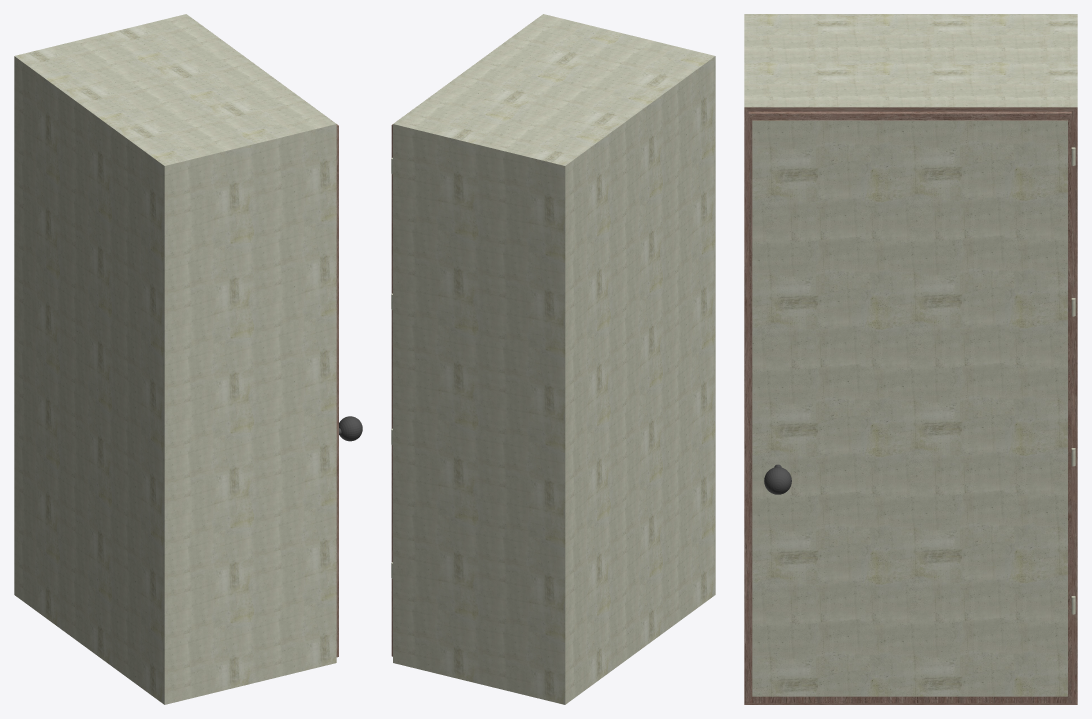
File: wardrobe.glb
3 views of the same model, side by side, from view 1: azimuth 30°, elevation 25°; view 2: azimuth 150°, elevation 25°; view 3: azimuth 270°, elevation 25° (orthographic). The views are drawn at different scales.
Visible parts, largest first — view 1: Cube.002, Cylinder.003; view 2: Cube.002, Cylinder.003; view 3: Cylinder.003, Cube.002.
Part boxes in pixels (x1,y1,x2,y2): Cube.002: [14, 14, 336, 704]; Cylinder.003: [336, 124, 362, 657]; Cube.002: [393, 14, 715, 704]; Cylinder.003: [391, 124, 392, 656]; Cylinder.003: [748, 111, 1075, 703]; Cube.002: [744, 14, 1077, 704].
Size of the model in its own units: 2.46 by 5.98 by 3.03.
3 materials, 2 textured.
